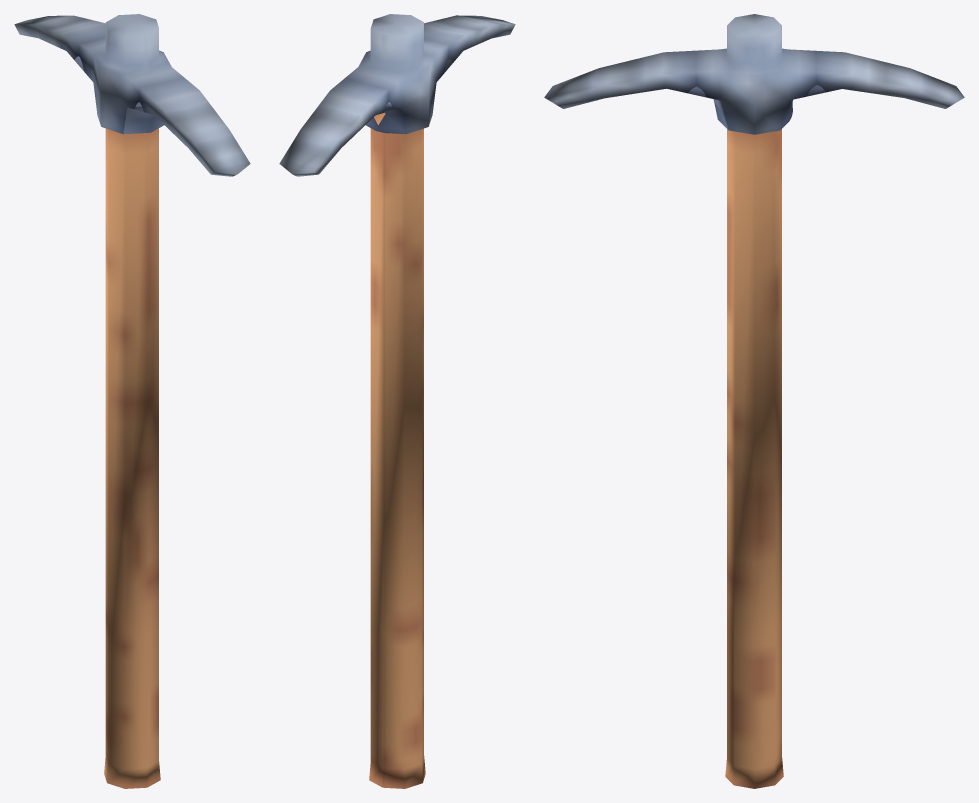
Rendered from picareta.fbx.
The picture shows the model from 3 angles, left to right: view 1: azimuth 30°, elevation 25°; view 2: azimuth 150°, elevation 25°; view 3: azimuth 270°, elevation 25°; orthographic projection.
Visible parts, largest first — view 1: Picareta; view 2: Picareta; view 3: Picareta.
Boxes of the visible parts, bbox=[...] form: Picareta: bbox=[14, 14, 250, 788]; Picareta: bbox=[279, 14, 515, 788]; Picareta: bbox=[544, 14, 964, 788].
Bounding box in the file's own units: 7.9 × 90.89 × 46.15.
